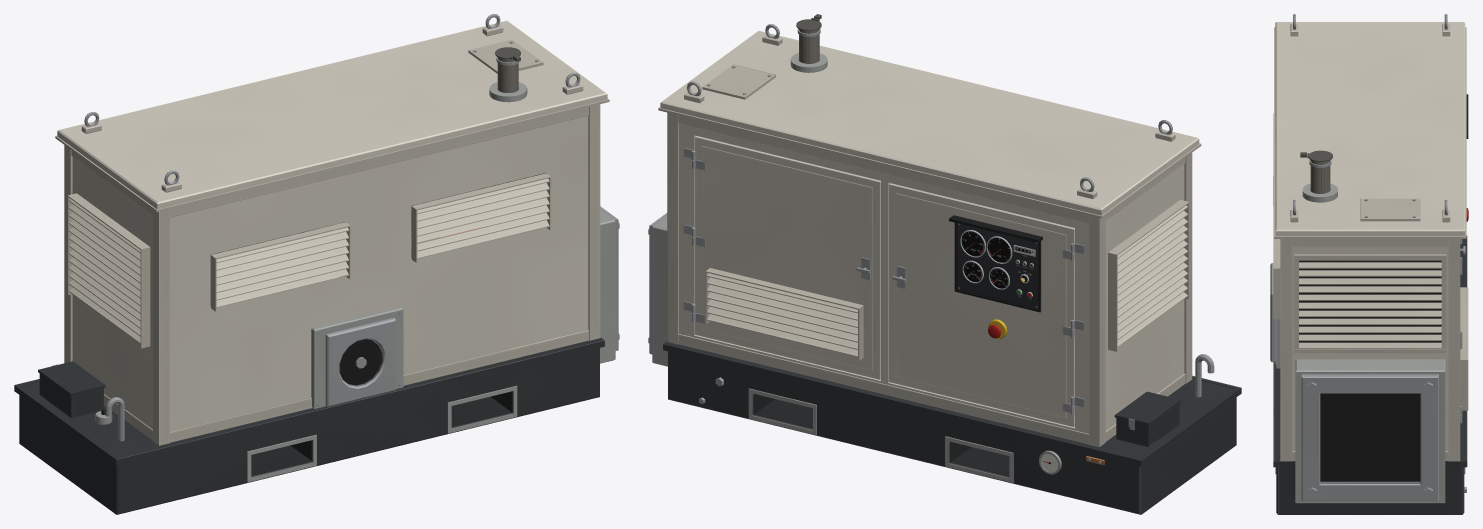
The model's file is item.obj.
3 renders of one model, left to right at view 1: azimuth 30°, elevation 25°; view 2: azimuth 150°, elevation 25°; view 3: azimuth 270°, elevation 25°, orthographic. The views are drawn at different scales.
Visible parts, largest first — view 1: back_wall, roof, tank, end_wall_intake, intake_hood_slats, back_hood_1_slats, back_hood_0_slats, tank_lip, post_eb, rail_high_b, port_plate, rail_low_b (+15 smaller); view 2: roof, tank, door_r_emboss, door_l_emboss, front_frame, end_wall_intake, door_l_hood_slats, intake_hood_slats, door_l_leaf, door_r_leaf, tank_lip, panel_plate (+17 smaller); view 3: roof, louvre_slats, fluid_port_throat, fluid_port_plate, fuel_connection_box, tank, louvre_mesh, end_wall_radiator, post_wb, post_wf, louvre_frame, rail_high_w (+11 smaller).
Part boxes in pixels (x1,y1,x2,y2): back_wall: (170, 116, 588, 431); roof: (57, 20, 607, 209); tank: (19, 339, 599, 514); end_wall_intake: (72, 157, 152, 429); intake_hood_slats: (69, 199, 140, 343); back_hood_1_slats: (216, 227, 348, 307); back_hood_0_slats: (417, 178, 549, 258); tank_lip: (14, 337, 604, 465); post_eb: (153, 209, 169, 445); rail_high_b: (170, 107, 588, 217); port_plate: (325, 317, 395, 406); rail_low_b: (170, 330, 588, 442); roof: (660, 31, 1199, 215); tank: (668, 343, 1236, 514); door_r_emboss: (895, 193, 1066, 418); door_l_emboss: (701, 146, 872, 370); front_frame: (679, 124, 1088, 433); end_wall_intake: (1105, 164, 1184, 430); door_l_hood_slats: (707, 273, 857, 357); intake_hood_slats: (1117, 205, 1187, 347); door_l_leaf: (694, 136, 880, 379); door_r_leaf: (888, 183, 1074, 426); tank_lip: (663, 341, 1241, 466); panel_plate: (956, 223, 1038, 309); roof: (1275, 22, 1465, 236); louvre_slats: (1299, 259, 1441, 348); fluid_port_throat: (1320, 393, 1420, 481); fluid_port_plate: (1301, 374, 1438, 500); fuel_connection_box: (1295, 359, 1445, 503); tank: (1276, 244, 1464, 514); louvre_mesh: (1299, 260, 1441, 342); end_wall_radiator: (1292, 247, 1448, 450); post_wb: (1280, 238, 1292, 461); post_wf: (1448, 238, 1460, 461); louvre_frame: (1294, 254, 1446, 353); rail_high_w: (1292, 238, 1448, 247).
Size of the model in its own units: 2.86 by 1.82 by 0.992.
